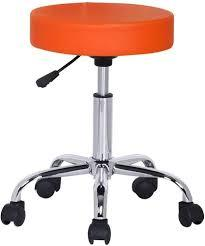stool: (0, 1, 204, 245)
